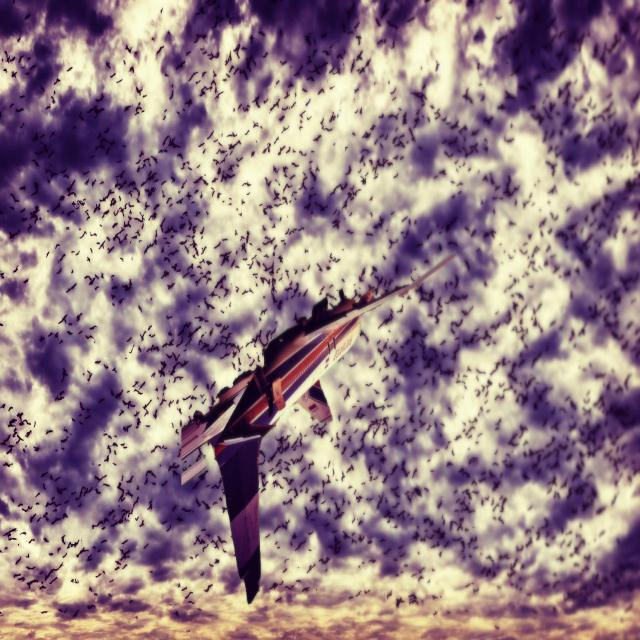airplane: (179, 250, 456, 604)
